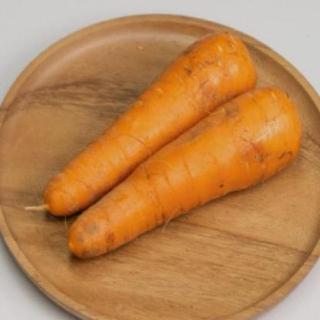carrot: (63, 85, 304, 265), (41, 27, 255, 221)
